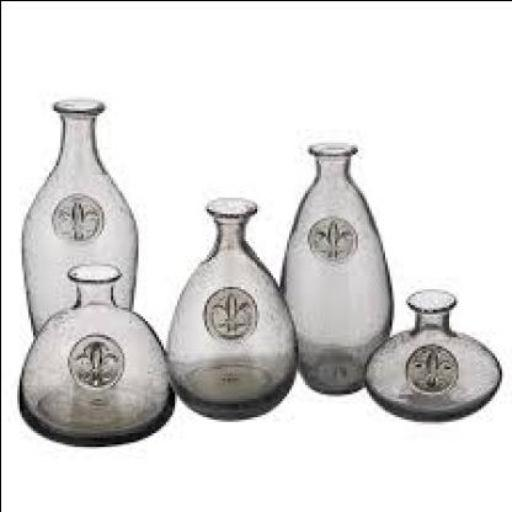glass: (166, 194, 300, 418), (18, 264, 176, 446), (22, 96, 140, 338), (281, 142, 391, 391), (366, 288, 504, 421)
